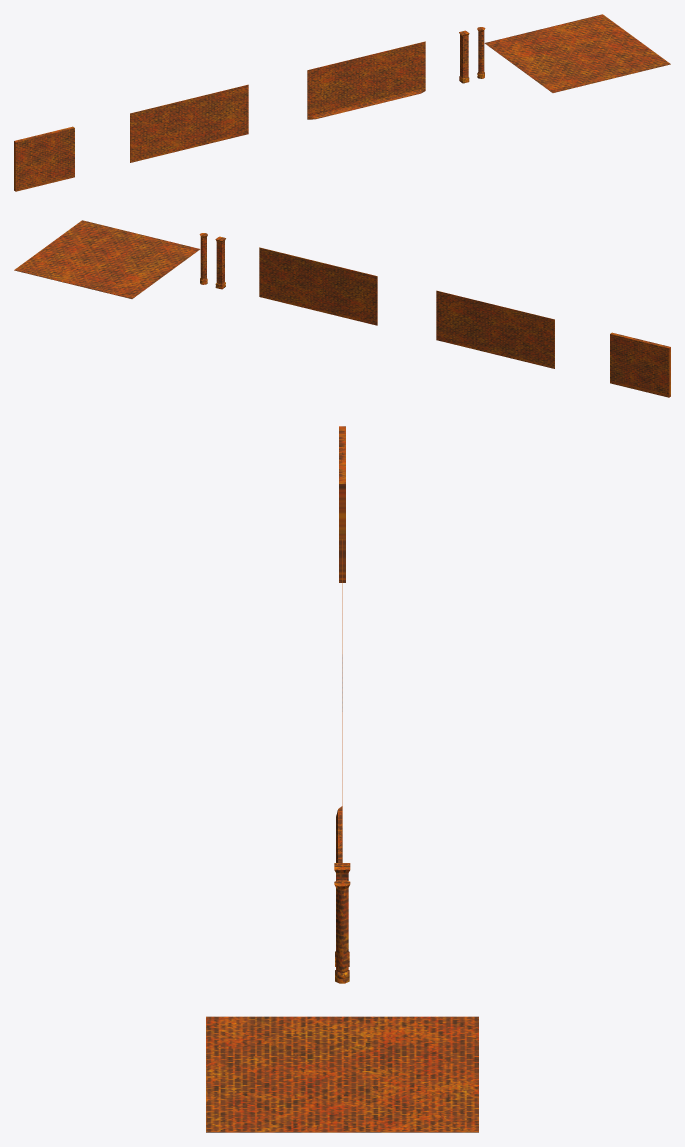
Rendered from wall_3.fbx.
3 renders of one model, top to bottom at view 1: azimuth 30°, elevation 25°; view 2: azimuth 150°, elevation 25°; view 3: azimuth 270°, elevation 25°, orthographic. The views are drawn at different scales.
Parts seen in each view (by area): view 1: LavaFloor, LavaWall_1, LavaWall_2, BronzShortWall, piller_1, piller_2; view 2: LavaFloor, LavaWall_1, LavaWall_2, BronzShortWall, piller_1, piller_2; view 3: LavaFloor, piller_2, BronzShortWall.
Part boxes in pixels (x1=…): LavaFloor: x1=484, y1=14, x2=670, y2=92; LavaWall_1: x1=307, y1=41, x2=425, y2=119; LavaWall_2: x1=130, y1=84, x2=248, y2=162; BronzShortWall: x1=14, y1=126, x2=74, y2=191; piller_1: x1=459, y1=30, x2=469, y2=83; piller_2: x1=477, y1=27, x2=485, y2=78; LavaFloor: x1=14, y1=220, x2=200, y2=298; LavaWall_1: x1=259, y1=247, x2=377, y2=325; LavaWall_2: x1=436, y1=290, x2=554, y2=368; BronzShortWall: x1=610, y1=332, x2=670, y2=397; piller_1: x1=215, y1=236, x2=225, y2=289; piller_2: x1=199, y1=233, x2=207, y2=284; LavaFloor: x1=206, y1=1016, x2=478, y2=1132; piller_2: x1=334, y1=879, x2=350, y2=983; BronzShortWall: x1=339, y1=426, x2=345, y2=582.
Size of the model in its own units: 105 by 8.01 by 20.
